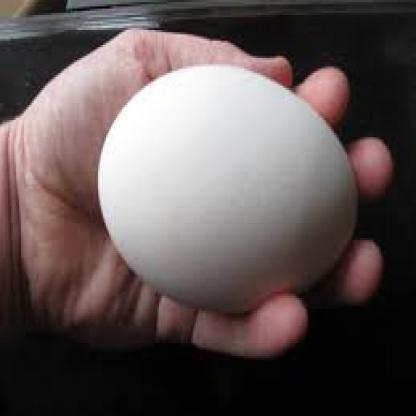egg: (95, 60, 362, 314)
